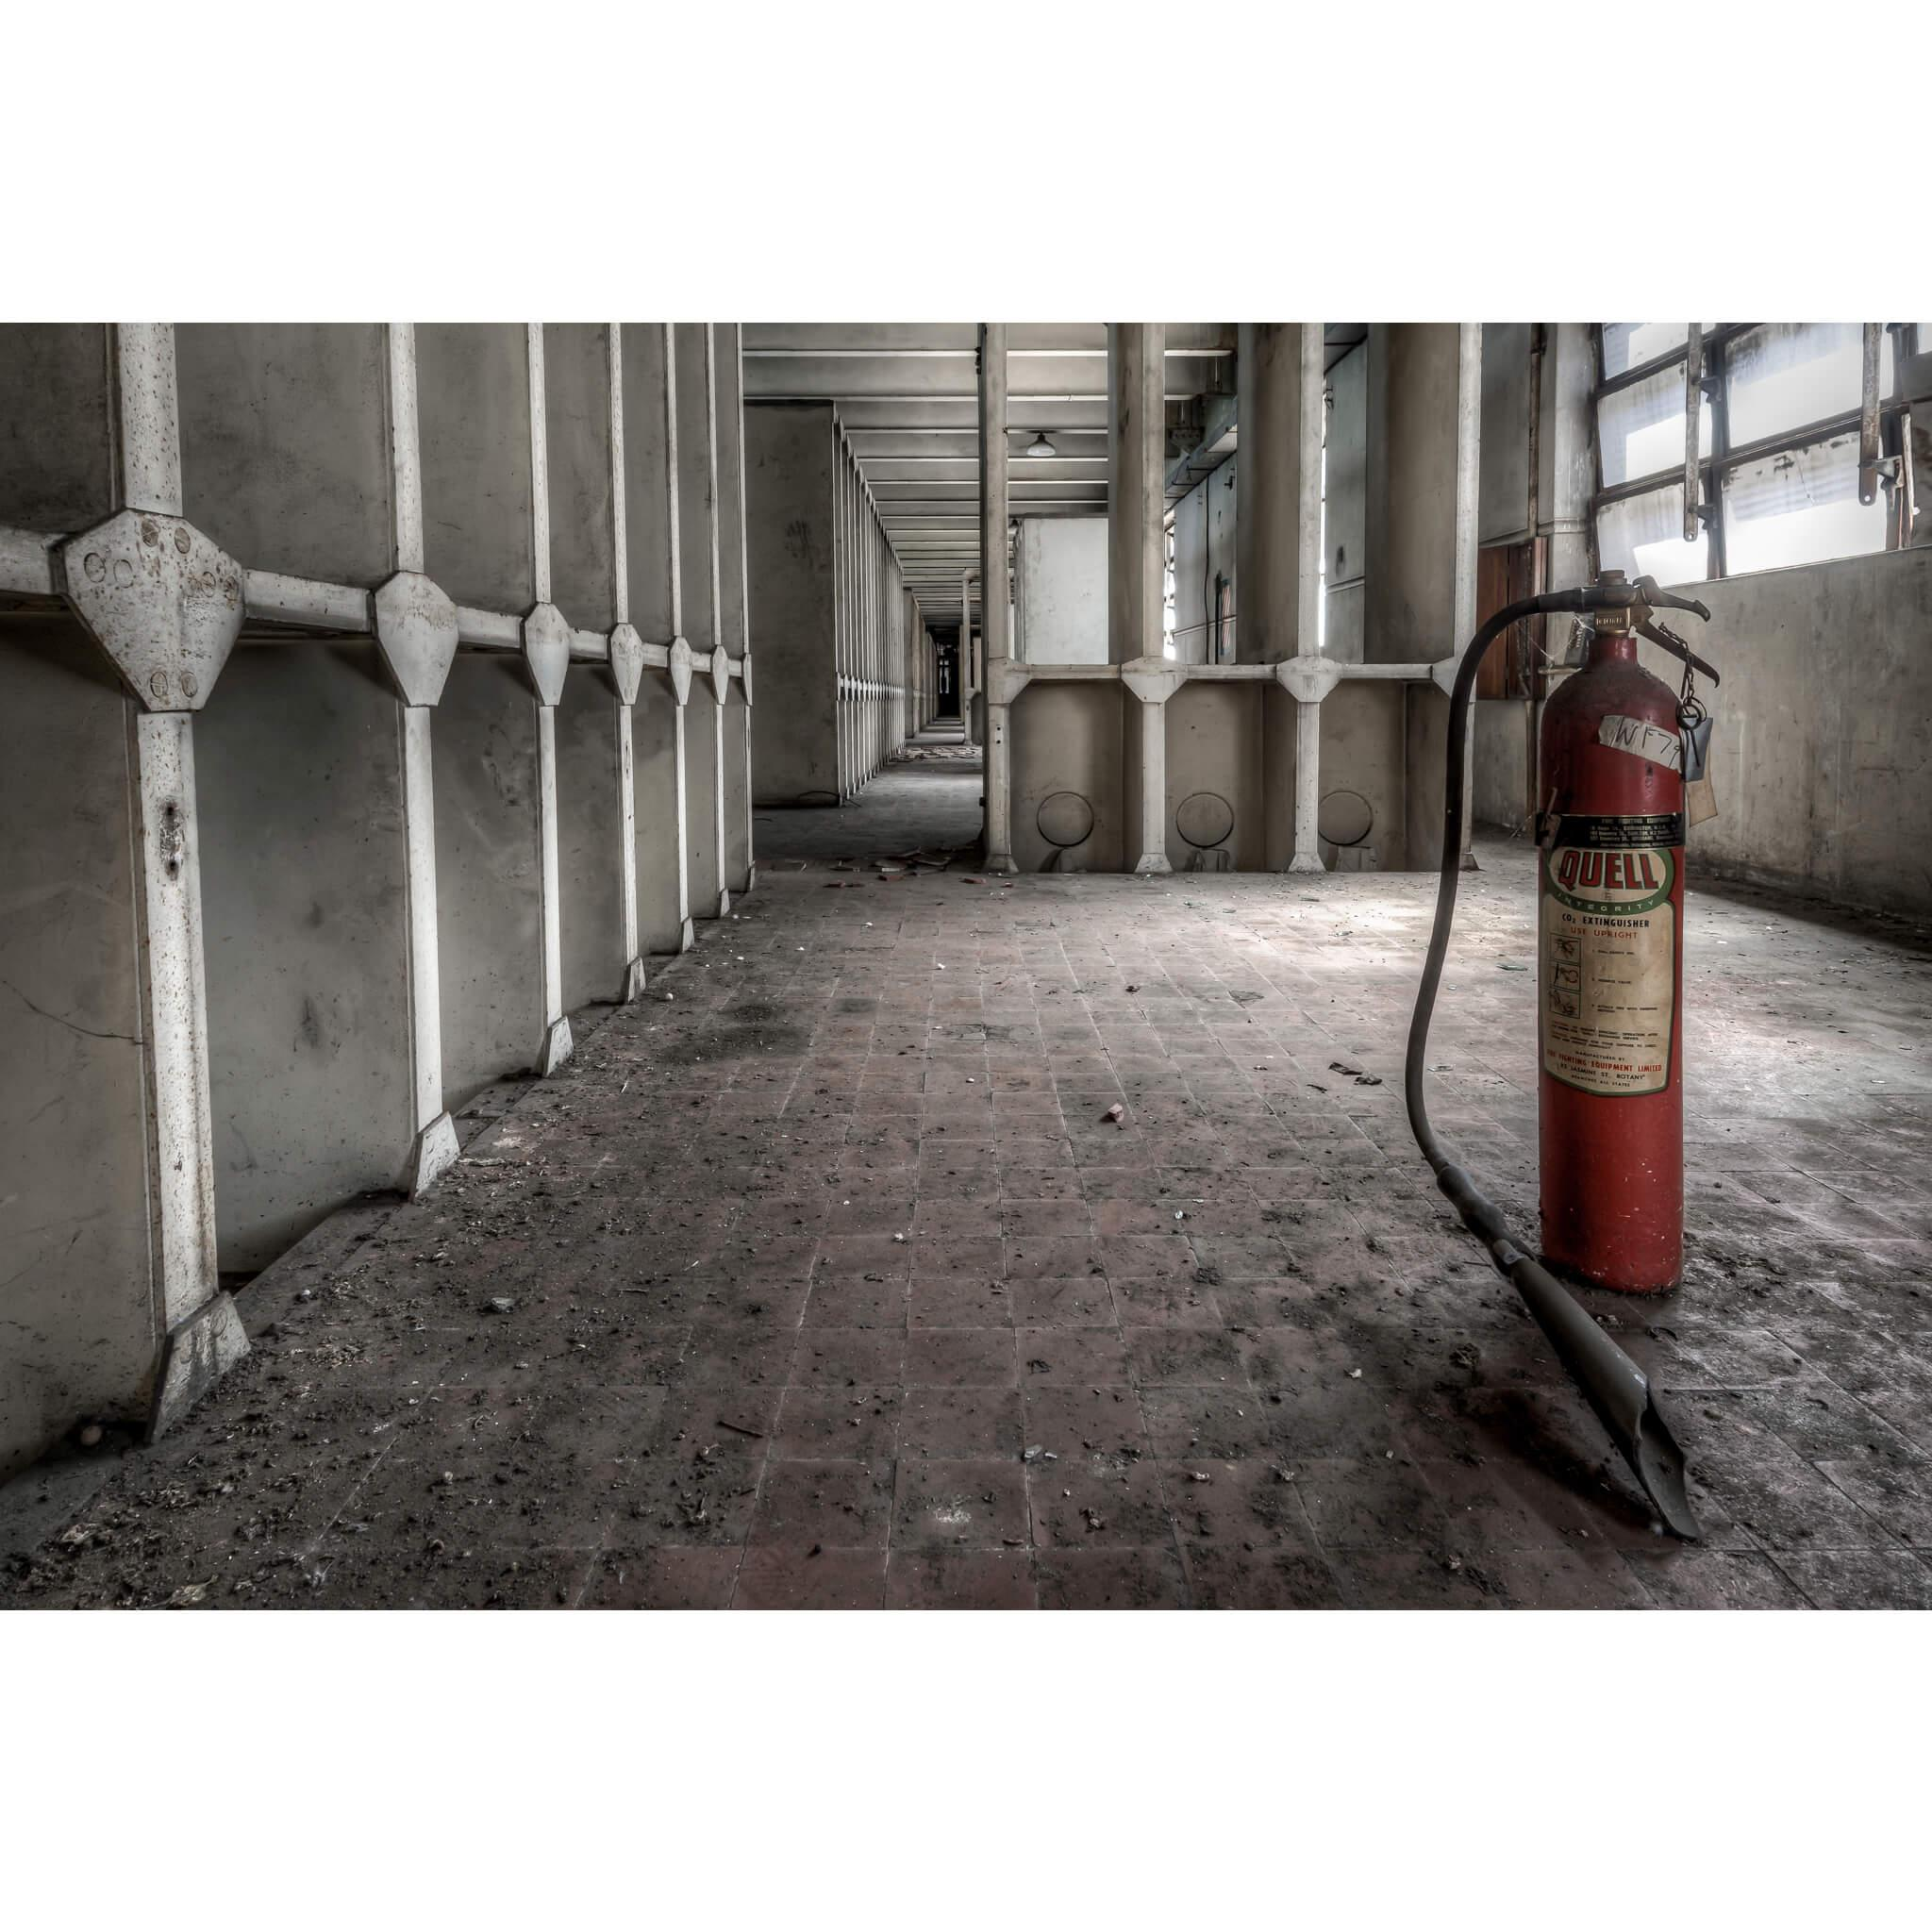Fire Extinguisher: (1401, 566, 1759, 1529)
